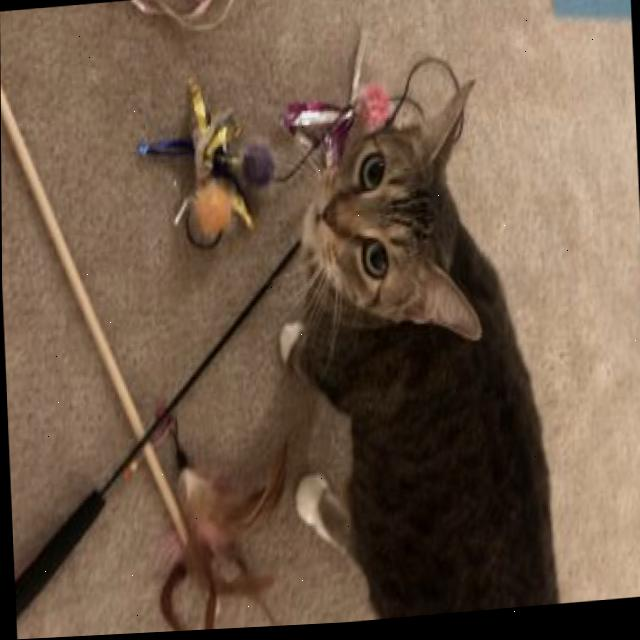Abyssinian: (258, 66, 568, 630)
